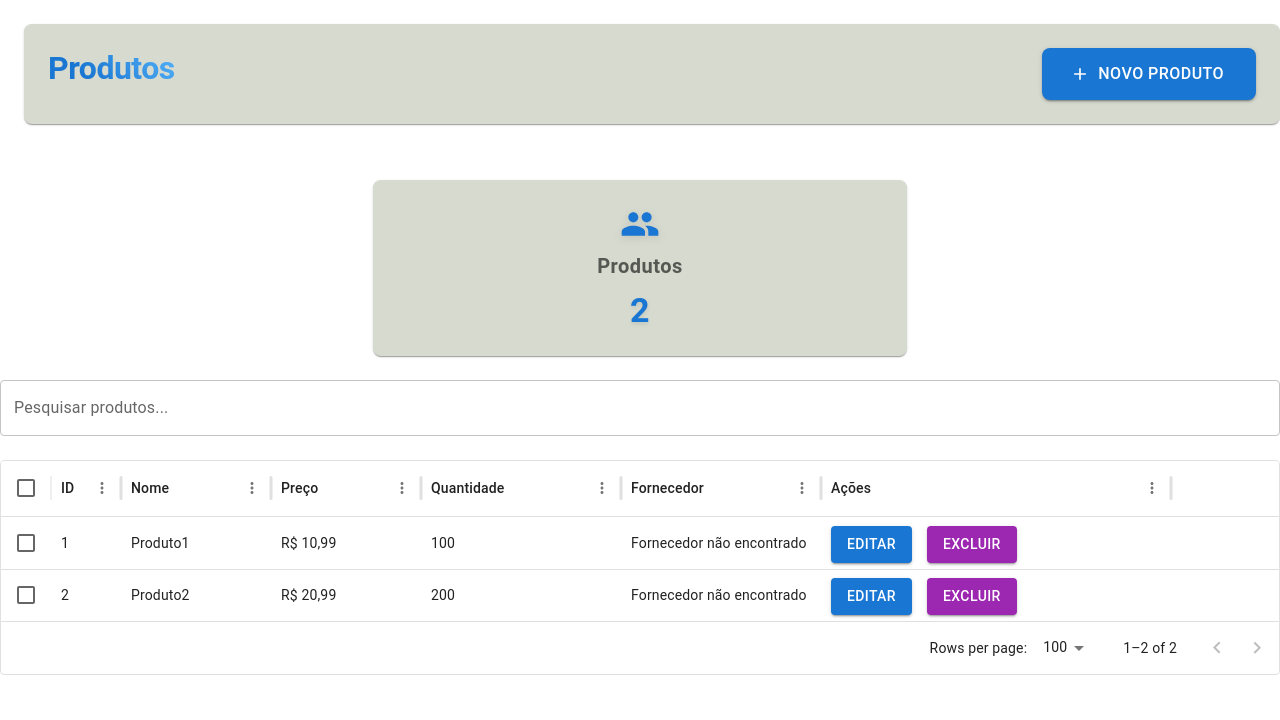
Test: Componente Produto › Abre formulário para edição ao clicar em Editar
Expected: the table is shown, left=1, top=461, right=1279, bottom=621
Click the button "Editar" in the row of "Produto1": click(872, 544) left=831, top=526, right=912, bottom=562
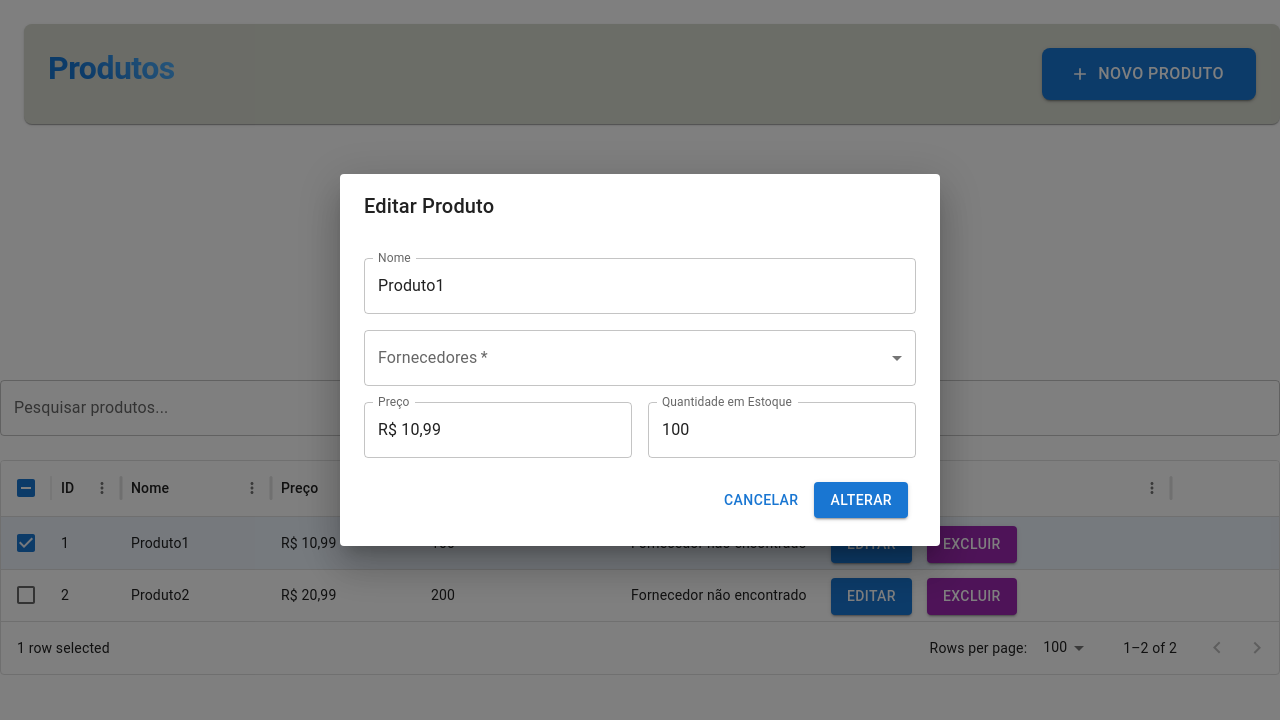
Expected: the dialog is shown, left=340, top=174, right=940, bottom=546
